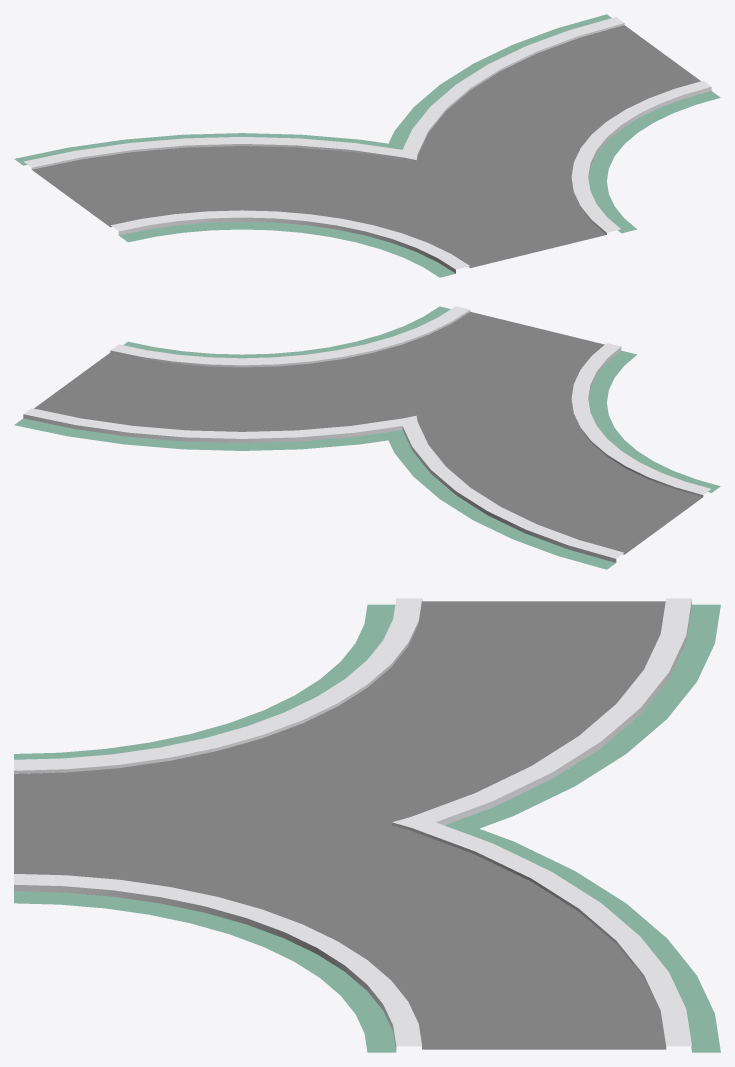
File: roadSplitRound.glb
3 views of the same model, one above another, from view 1: azimuth 30°, elevation 25°; view 2: azimuth 150°, elevation 25°; view 3: azimuth 270°, elevation 25° (orthographic). The views are drawn at different scales.
Visible parts, largest first — view 1: roadSplitRound(Clone); view 2: roadSplitRound(Clone); view 3: roadSplitRound(Clone).
Part boxes in pixels (box(x1,y1,x2,y2)): roadSplitRound(Clone): box(14, 14, 720, 277); roadSplitRound(Clone): box(14, 306, 720, 569); roadSplitRound(Clone): box(14, 598, 720, 1052).
Size of the model in its own units: 3 by 0.02 by 2.
